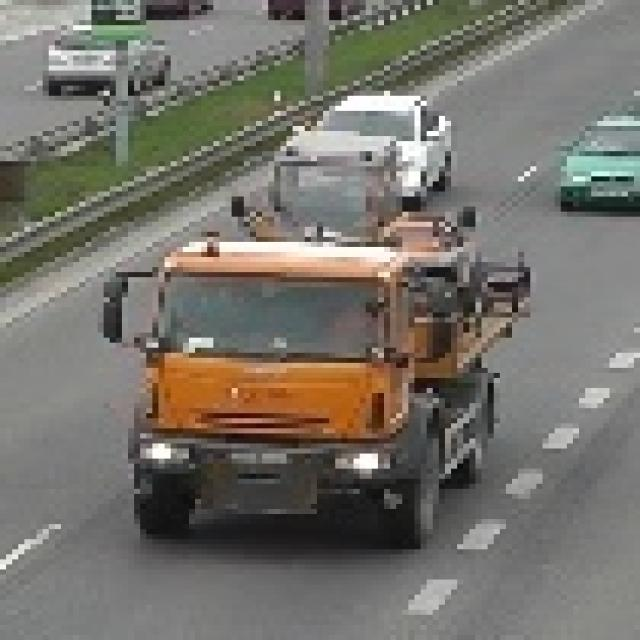truck: (98, 202, 530, 539)
